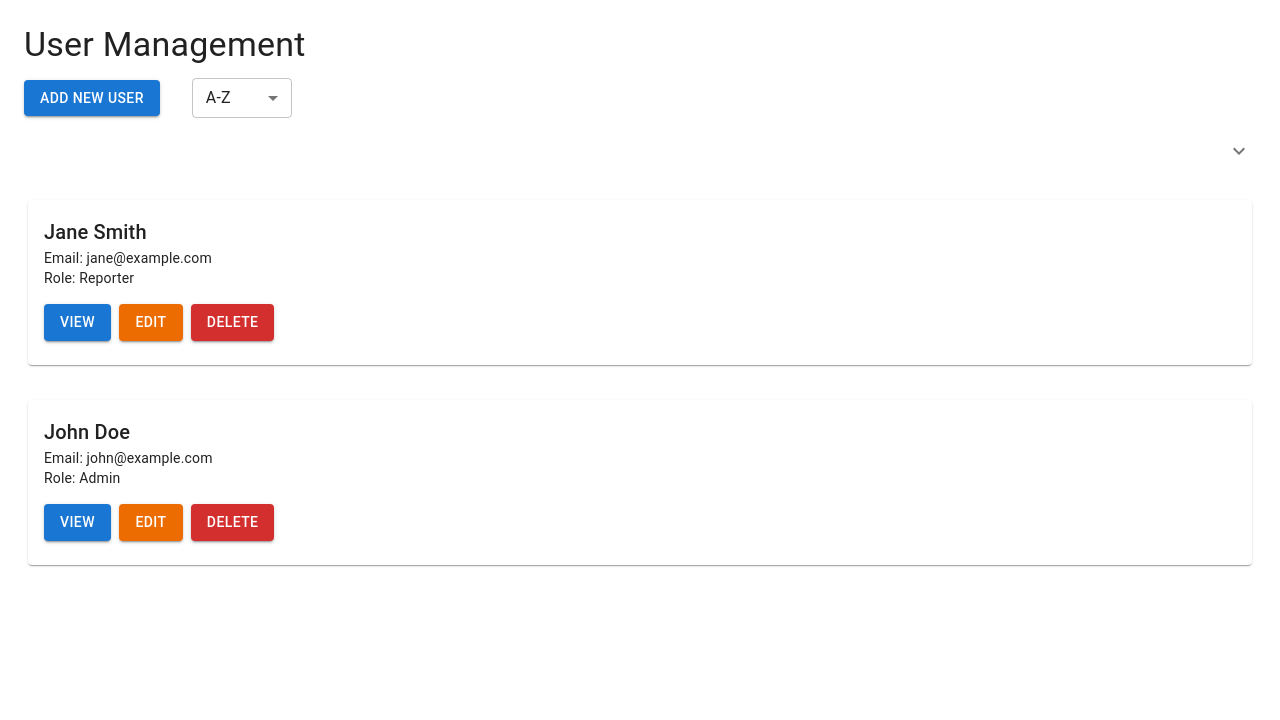
Test case: Users Component › handles sort order change
Press the mouse on the dropdown labelled "A-Z": (218, 98) [206,88,231,107]
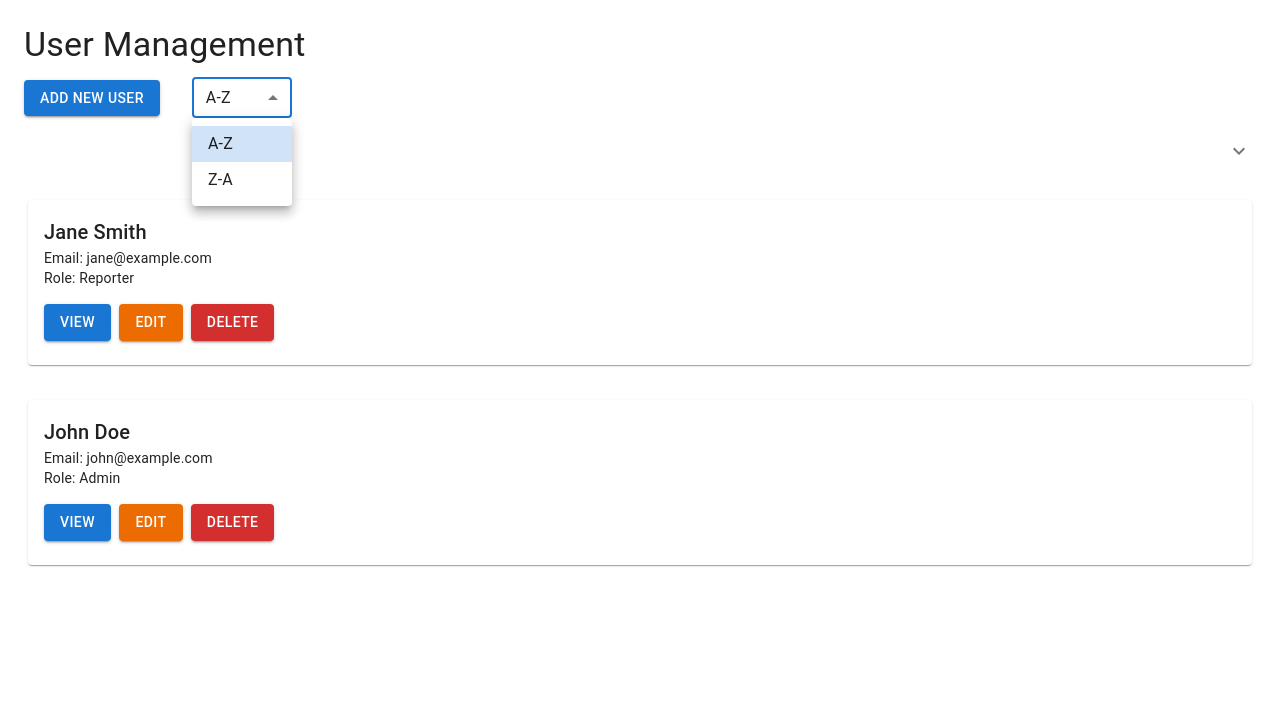
Click the option "Z-A": (220, 180) [208,170,233,189]
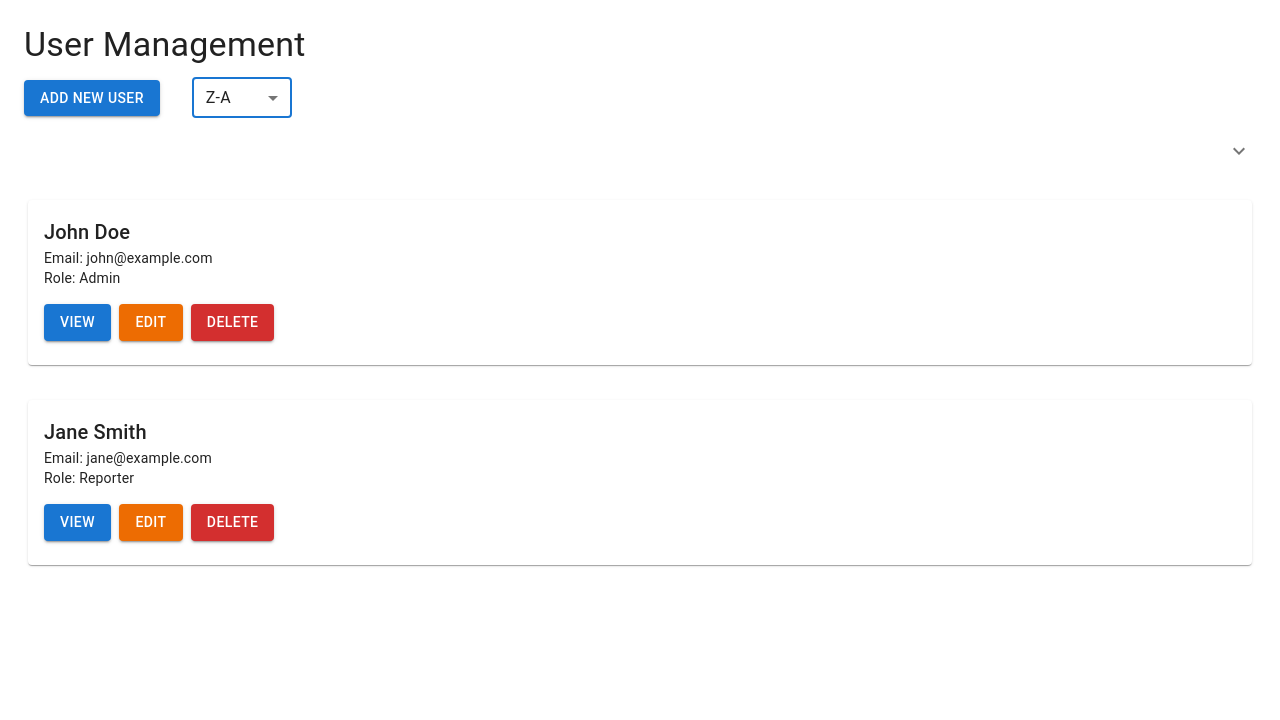
Expected: the element with test id "sort-select" holds "desc", [192,78,292,118]
Now the heading "John Doe" is shown, box [44,220,130,244]
Now the heading "Jane Smith" is shown, box [44,420,147,444]
